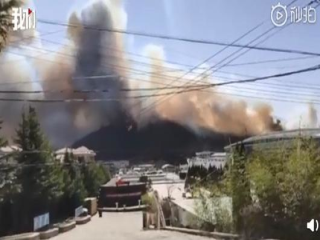smoke: (67, 3, 144, 130), (152, 65, 280, 138)
